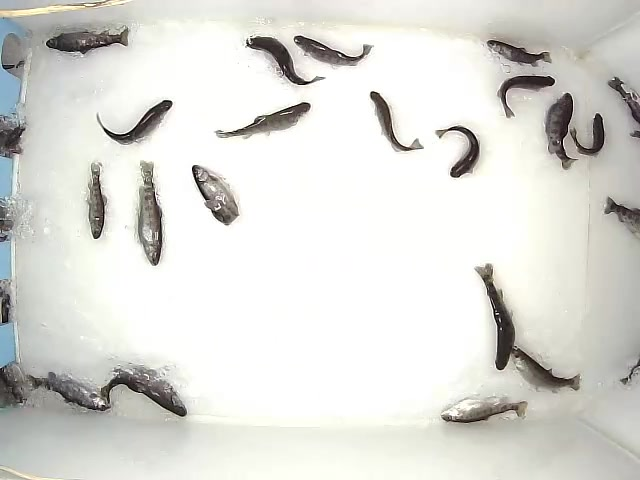fish: (101, 364, 188, 418), (473, 262, 516, 370), (245, 35, 326, 86), (213, 101, 312, 142), (94, 98, 174, 147), (24, 370, 111, 413), (369, 90, 425, 153), (510, 345, 582, 394), (191, 164, 241, 227), (135, 159, 163, 267), (292, 34, 374, 70), (543, 92, 579, 172), (439, 396, 529, 426), (497, 75, 556, 120), (433, 125, 481, 179), (45, 27, 130, 56), (486, 39, 554, 68), (86, 161, 108, 241), (569, 111, 607, 156)
